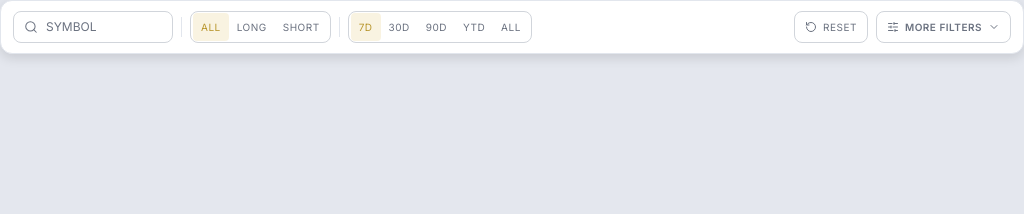
Test case: AnalyticsFilterBar — multi-select behavior across the MultiSelectMenu extraction › empty book: the menu renders the honest "No options yet."
Step 1. Click the button "More filters" → click(943, 27), box 876,11 -> 1011,43
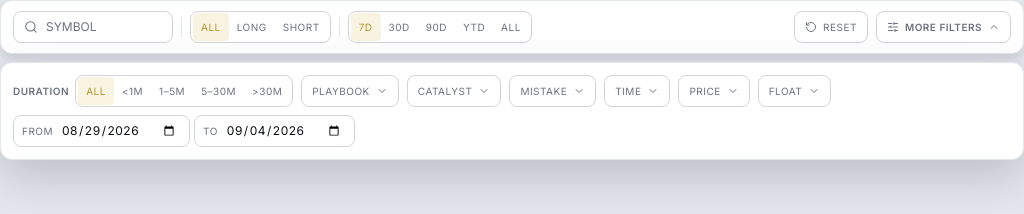
Step 2. Click the button "Mistake" → click(553, 91), box 509,75 -> 596,107
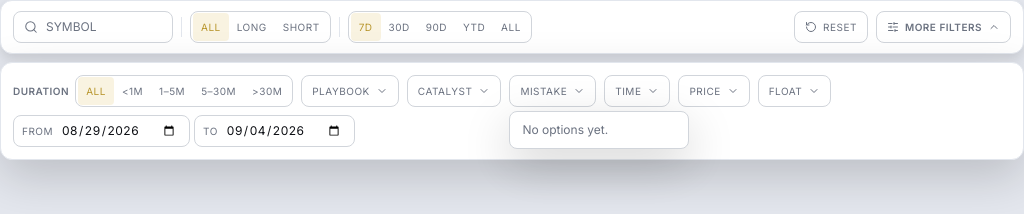
Check: the text "No options yet." is shown, box 522,122 -> 608,137
